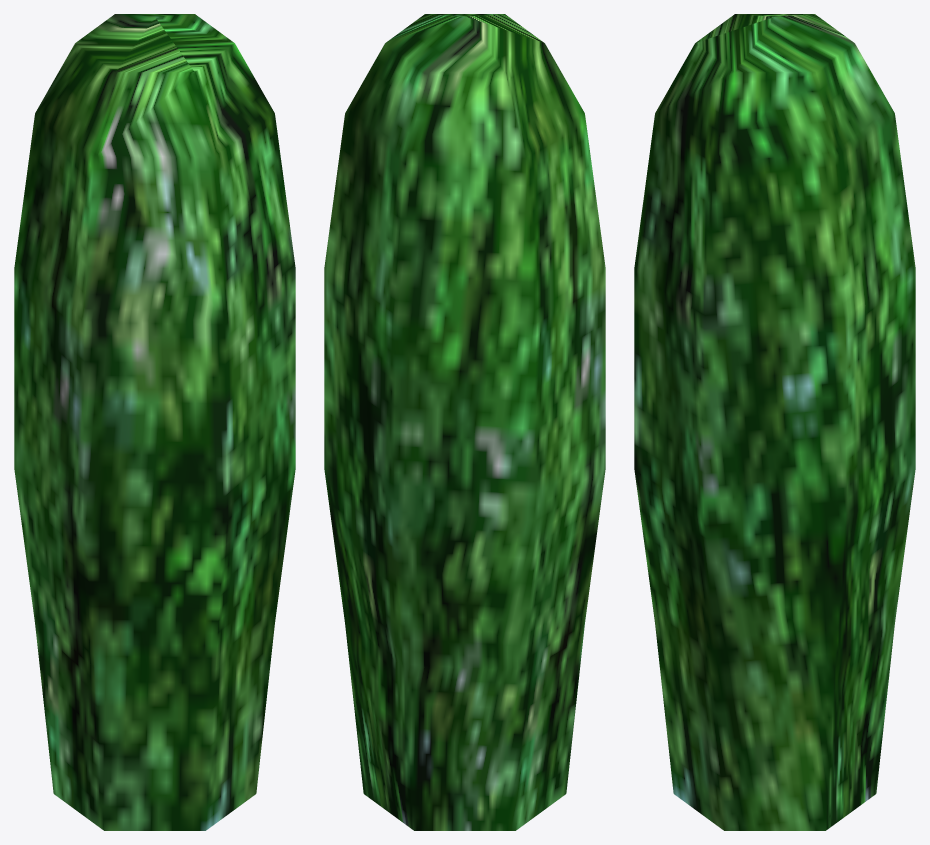
Rendered from Cactus.glb.
3 renders of one model, left to right at view 1: azimuth 30°, elevation 25°; view 2: azimuth 150°, elevation 25°; view 3: azimuth 270°, elevation 25°, orthographic.
Parts seen in each view (by area): view 1: Cylinder; view 2: Cylinder; view 3: Cylinder.
Boxes of the visible parts, x1=… form: Cylinder: x1=14, y1=14, x2=295, y2=830; Cylinder: x1=324, y1=14, x2=605, y2=830; Cylinder: x1=634, y1=14, x2=915, y2=830.
Size of the model in its own units: 0.8142 by 2.86 by 0.9402.
Materials: 1 (1 with a texture image).
